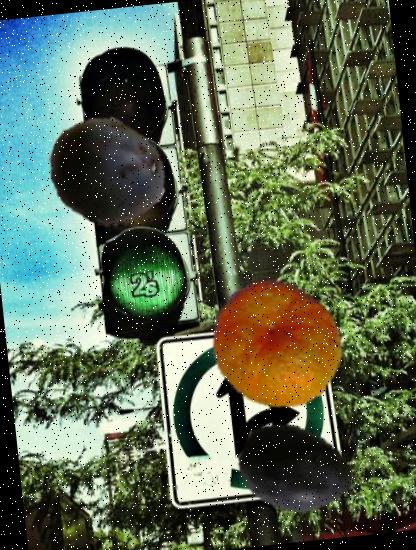Mandarine: (203, 270, 350, 418)
Plum: (40, 106, 173, 239), (232, 408, 359, 536)
